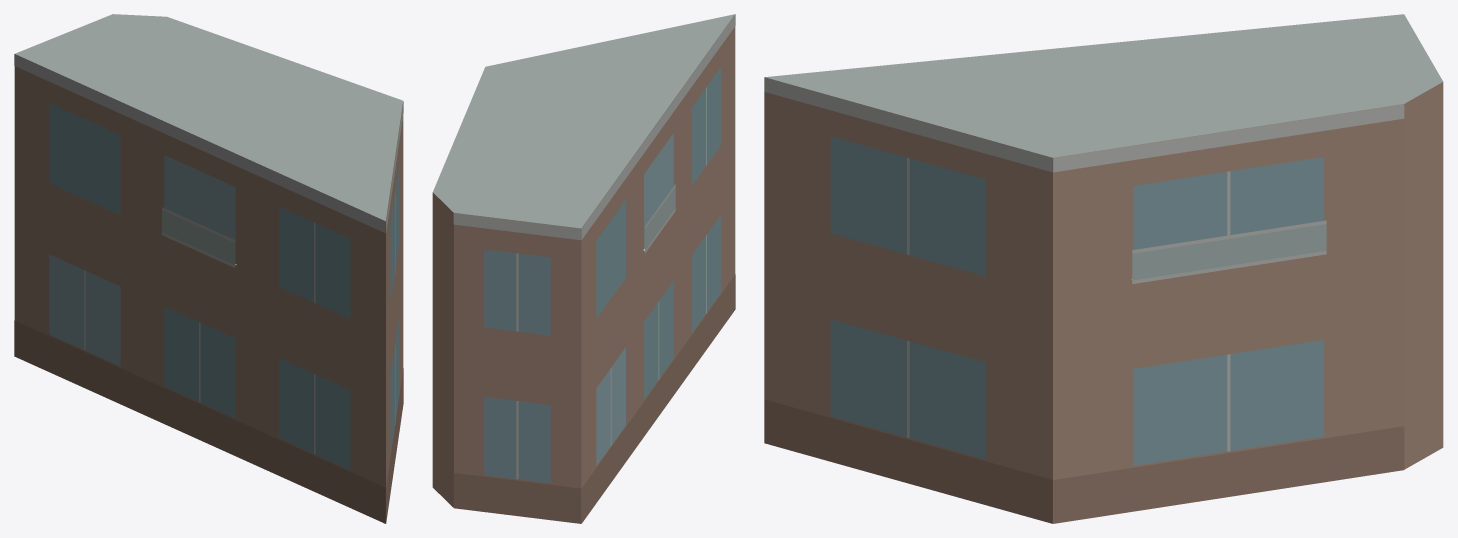
The model's file is survey-upis-32903659.glb.
The picture shows the model from 3 angles, left to right: view 1: azimuth 30°, elevation 25°; view 2: azimuth 150°, elevation 25°; view 3: azimuth 270°, elevation 25°; orthographic projection. The views are drawn at different scales.
Visible parts, largest first — view 1: survey-upis-32903659.tmp; view 2: survey-upis-32903659.tmp; view 3: survey-upis-32903659.tmp.
Part boxes in pixels (x1,y1,x2,y2): survey-upis-32903659.tmp: (14, 14, 403, 523); survey-upis-32903659.tmp: (432, 14, 735, 523); survey-upis-32903659.tmp: (764, 14, 1443, 523).
Bounding box in the file's own units: 5.15 × 6.1 × 10.27.
